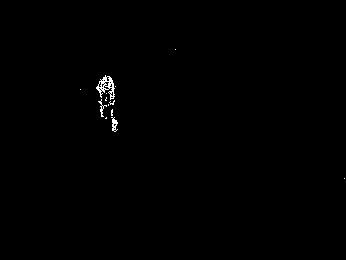person: (95, 73, 118, 134)
